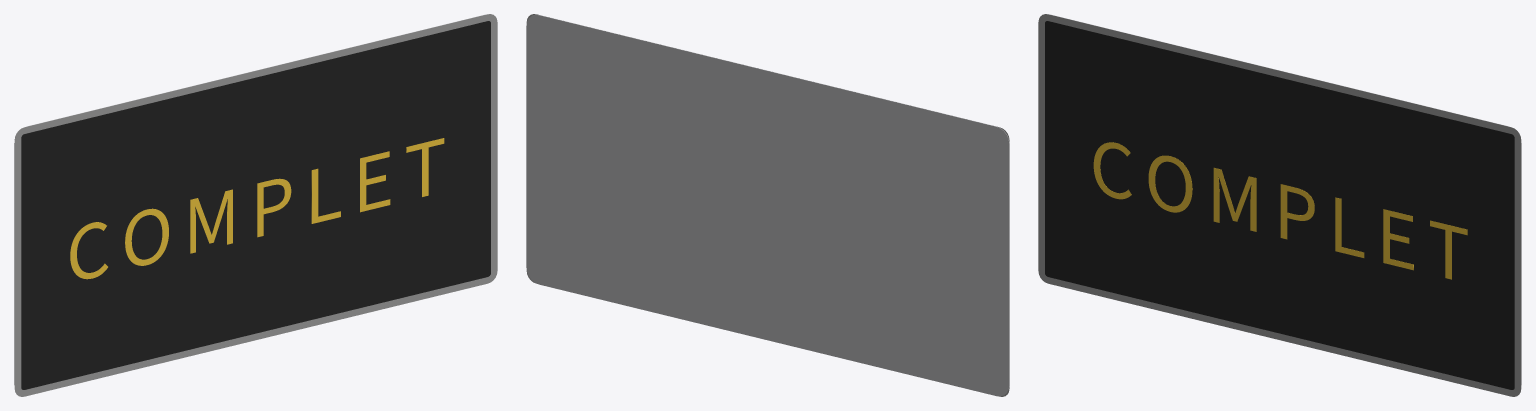
Rendered from MSG_COMPLET.glb.
The picture shows the model from 3 angles, left to right: view 1: azimuth 30°, elevation 25°; view 2: azimuth 150°, elevation 25°; view 3: azimuth 330°, elevation 25°; orthographic projection.
Visible parts, largest first — view 1: MSG_COMPLET_fond01, MSG_COMPLET_cadre00, MSG_COMPLET_txt02, MSG_COMPLET_dos; view 2: MSG_COMPLET_dos; view 3: MSG_COMPLET_fond01, MSG_COMPLET_cadre00, MSG_COMPLET_txt02, MSG_COMPLET_dos.
Boxes of the visible parts, bbox=[...] form: MSG_COMPLET_fond01: bbox=[21, 21, 490, 389]; MSG_COMPLET_cadre00: bbox=[14, 14, 497, 396]; MSG_COMPLET_txt02: bbox=[70, 138, 444, 279]; MSG_COMPLET_dos: bbox=[14, 14, 484, 384]; MSG_COMPLET_dos: bbox=[526, 14, 1009, 396]; MSG_COMPLET_fond01: bbox=[1045, 21, 1514, 389]; MSG_COMPLET_cadre00: bbox=[1038, 14, 1521, 396]; MSG_COMPLET_txt02: bbox=[1093, 142, 1467, 279]; MSG_COMPLET_dos: bbox=[1051, 14, 1521, 384].
Bounding box in the file's own units: 1.5 × 0.8 × 0.0025.
